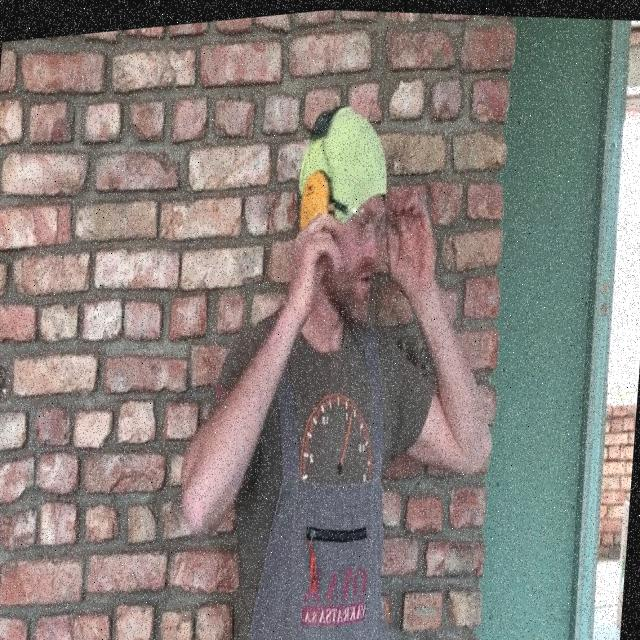Earmuffs: (300, 171, 329, 230)
